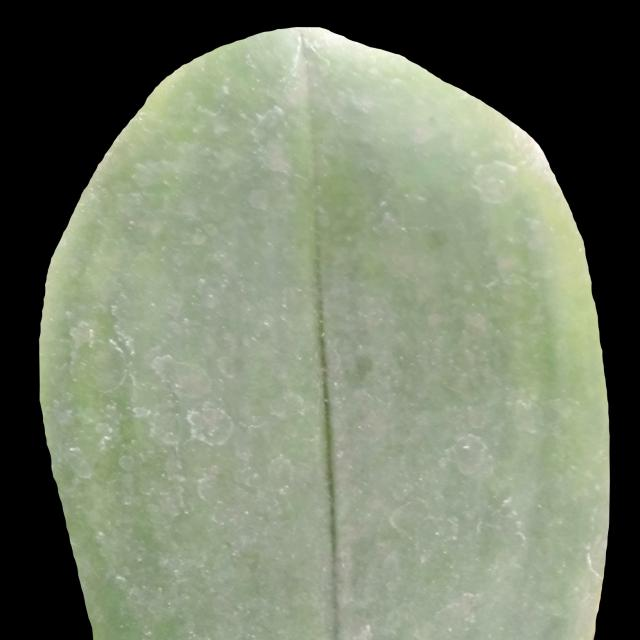mite: (441, 431, 494, 479), (185, 401, 234, 447), (342, 347, 379, 389), (351, 352, 374, 382), (246, 185, 271, 212), (423, 227, 447, 252), (188, 228, 209, 247)
spots: (38, 26, 611, 637)
